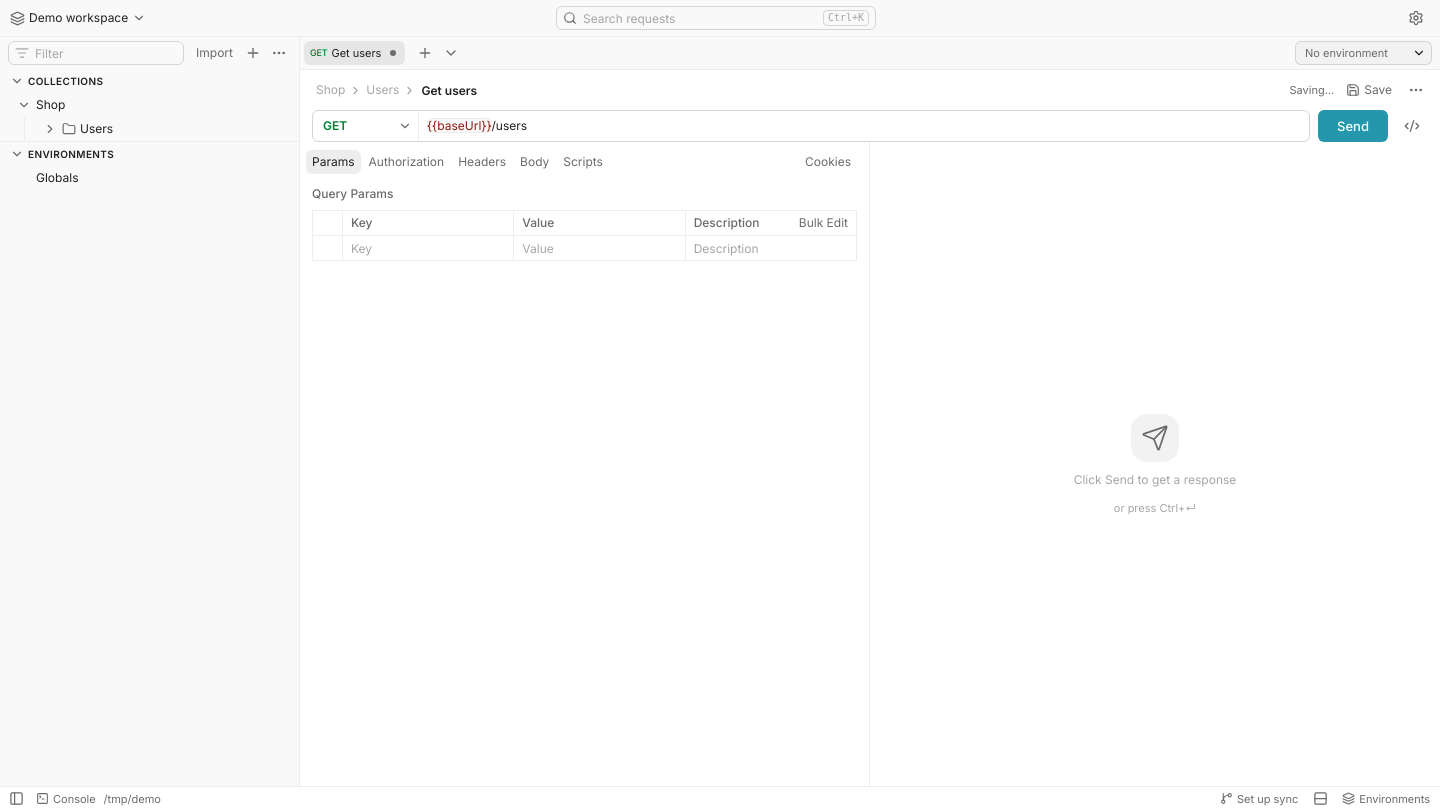
it: console panel › never shows headers, and shows the unresolved url when nothing was received
Click the button "Send" at (1353, 126), box [1318, 110, 1388, 142]
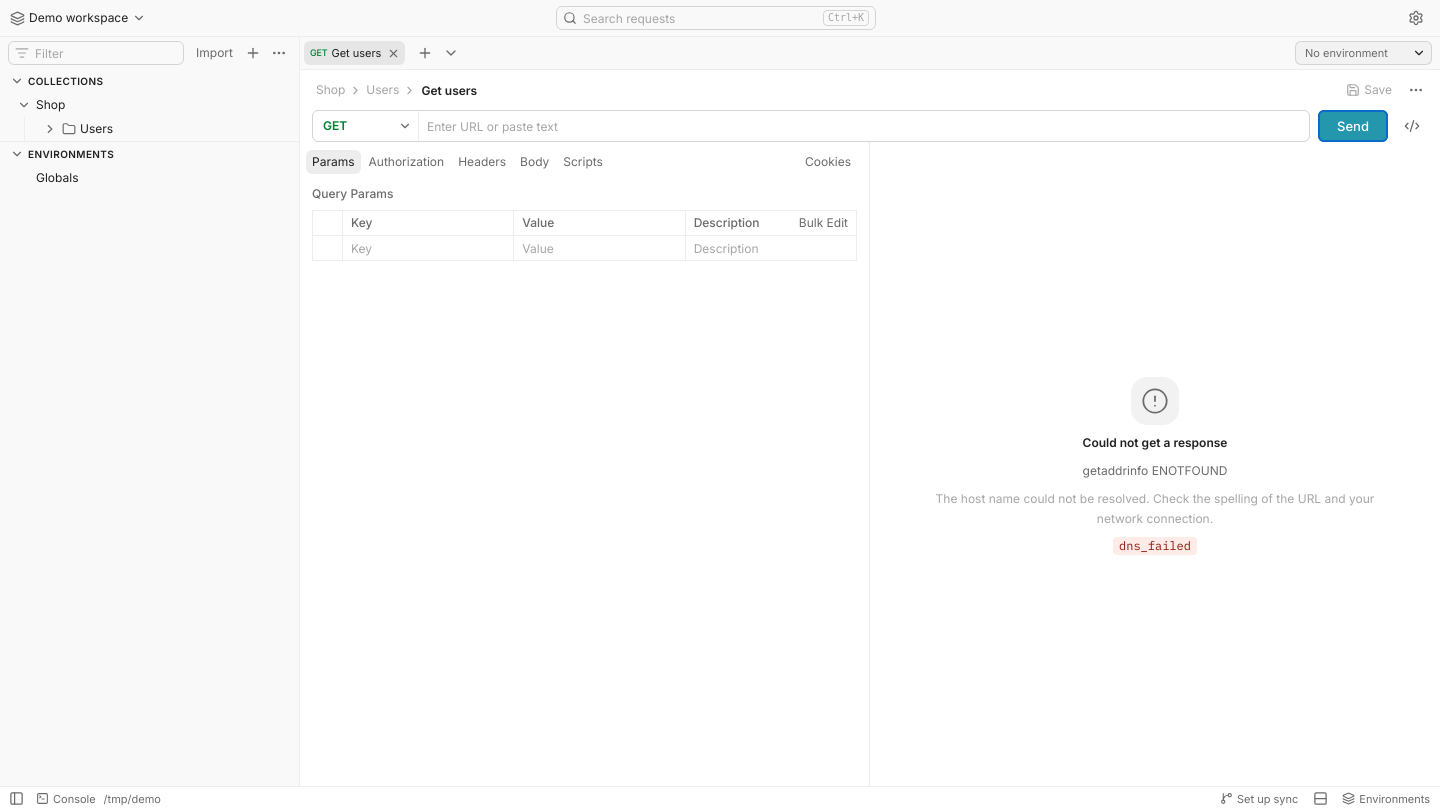
Click the button "Console" at (66, 798), box [30, 786, 102, 809]
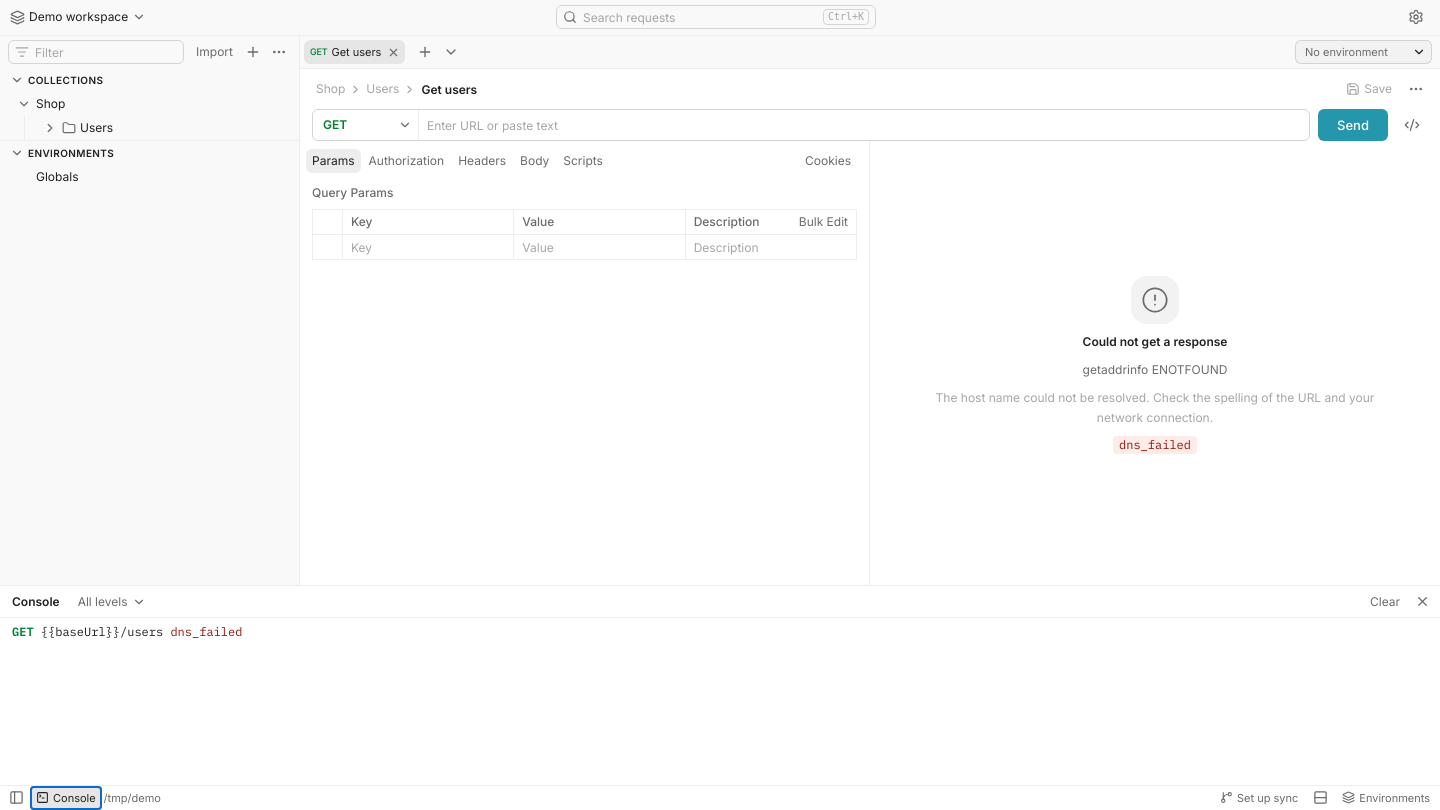
Expected: the element "Console" does not show "header-secret", [0, 585, 1439, 785]
Now the list items read "GET {{baseUrl}}/users dns_failed", in this order, box [12, 624, 242, 639]
